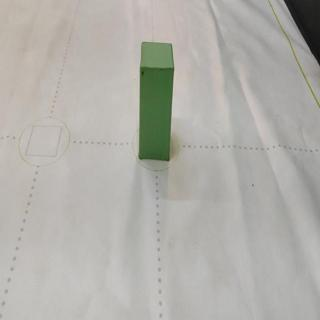greenbox: (137, 39, 175, 161)
